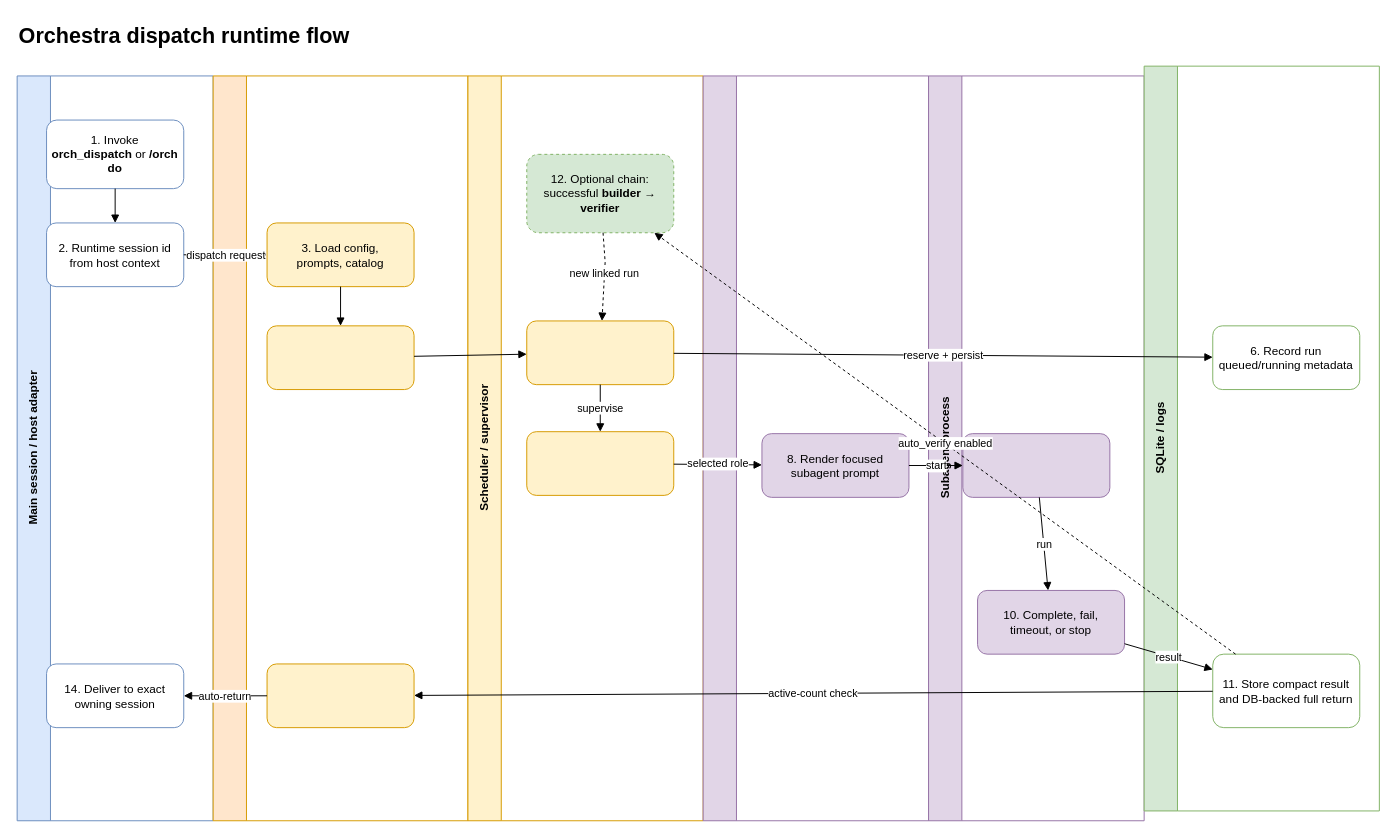
Image size: 1397x838. Some labels were removed from this diagram. Here are the shapes that lost their labels. From the top down, the box of each, then its label:
(266, 325, 414, 390): 4. Resolve role and harness
(526, 320, 674, 385): 5. Atomic concurrency checks
(212, 75, 468, 821): Python core
(526, 431, 674, 495): 7. Start detached supervisor
(702, 75, 929, 821): Harness connector
(962, 433, 1110, 497): 9. Launch argv-list subprocess
(266, 663, 414, 728): 13. Build one consolidated report
